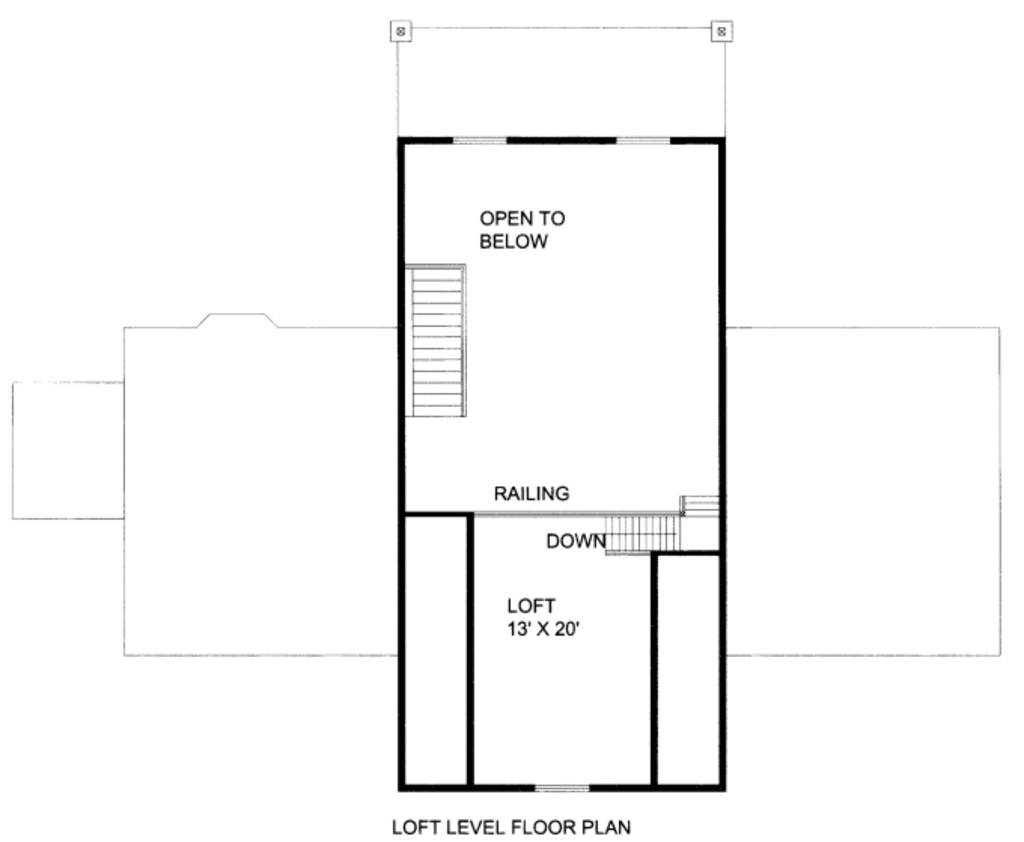stairs: (411, 260, 480, 424), (598, 488, 735, 568)
window: (447, 132, 510, 150), (535, 779, 602, 795), (610, 134, 669, 150)
